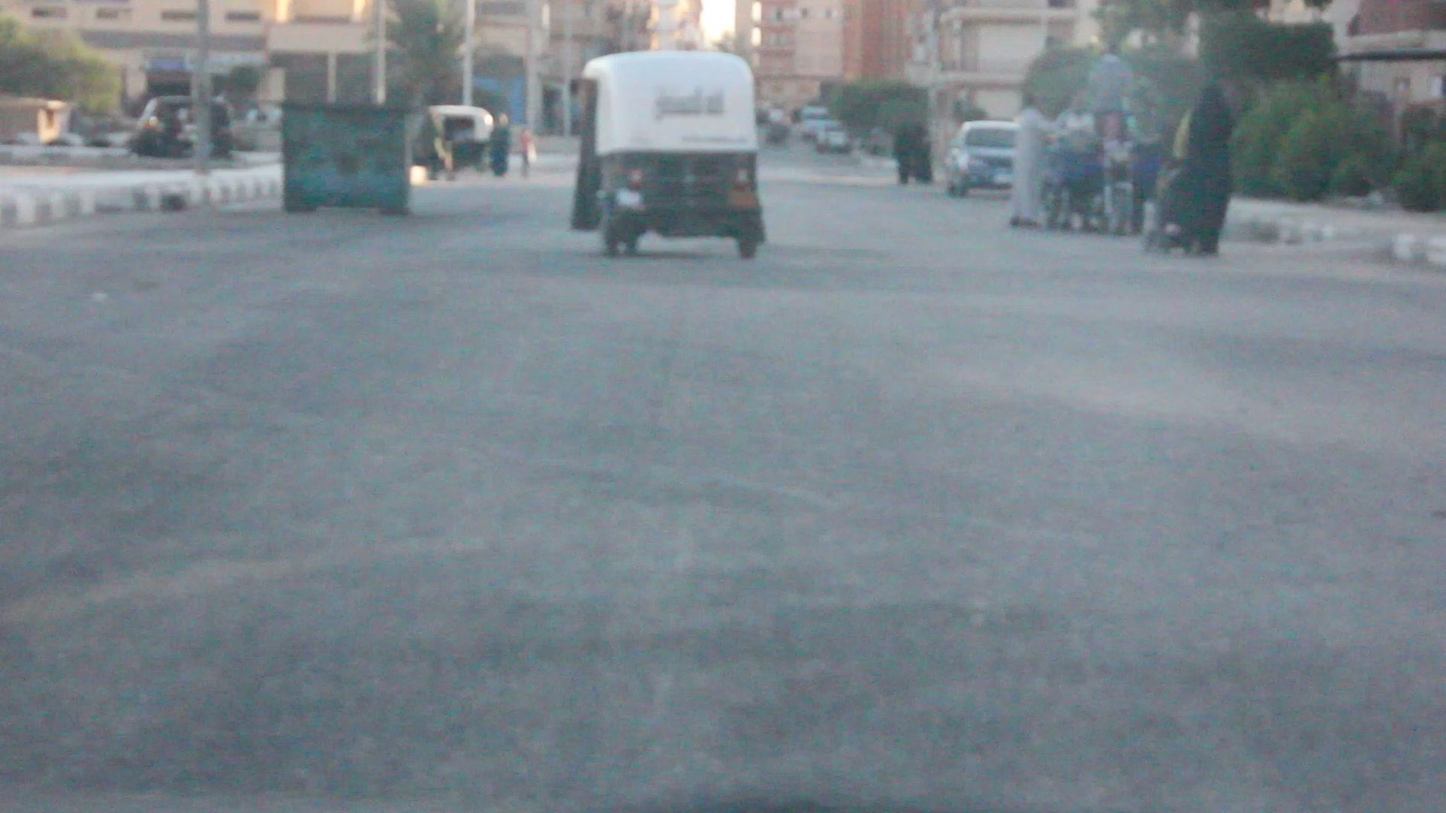Bump: (0, 241, 1446, 312)
